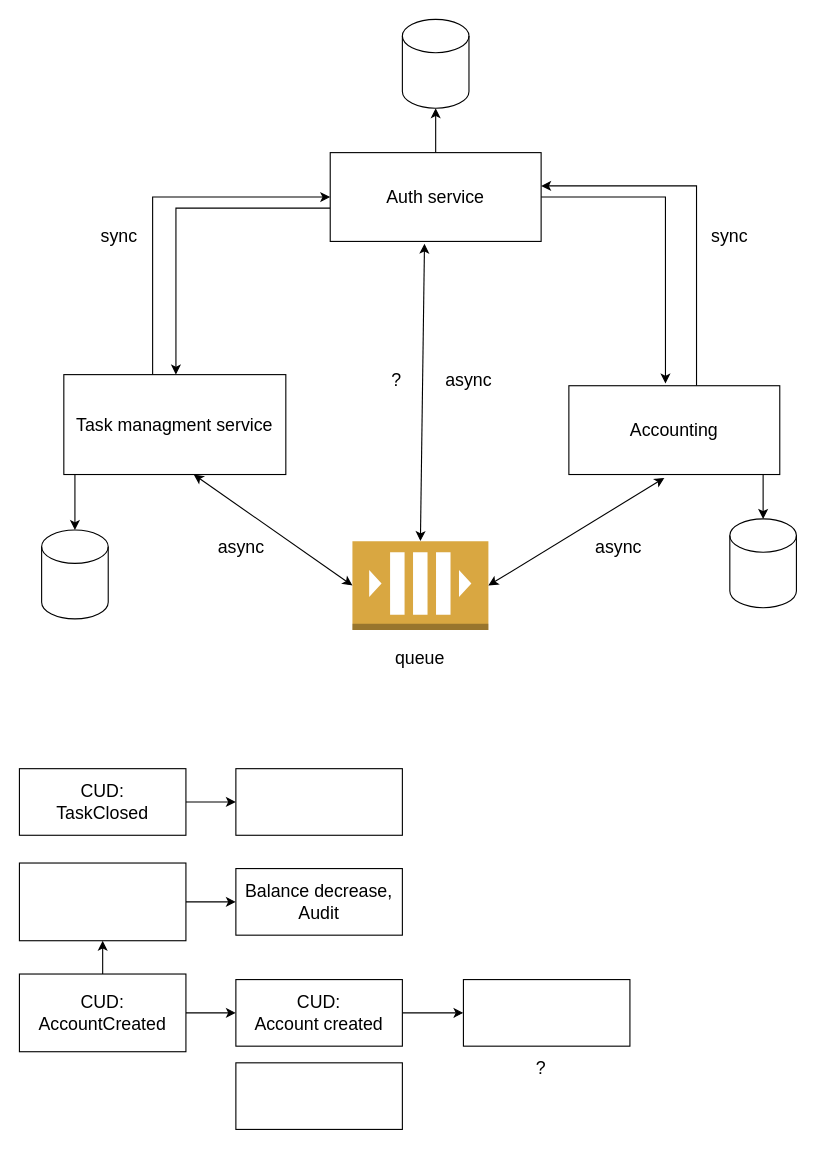
The diagram is 816 pixels wide and 1149 high, and some of its shapes have lost their labels. Here are the shapes that lost their labels. From the top down, the centre of each, then its label:
pixel 318 801: Balance increase, Audit
pixel 102 901: CUD: TasksReassigned TaskAssigned
pixel 546 1012: Sync with accounting
pixel 318 1095: Account created in db
